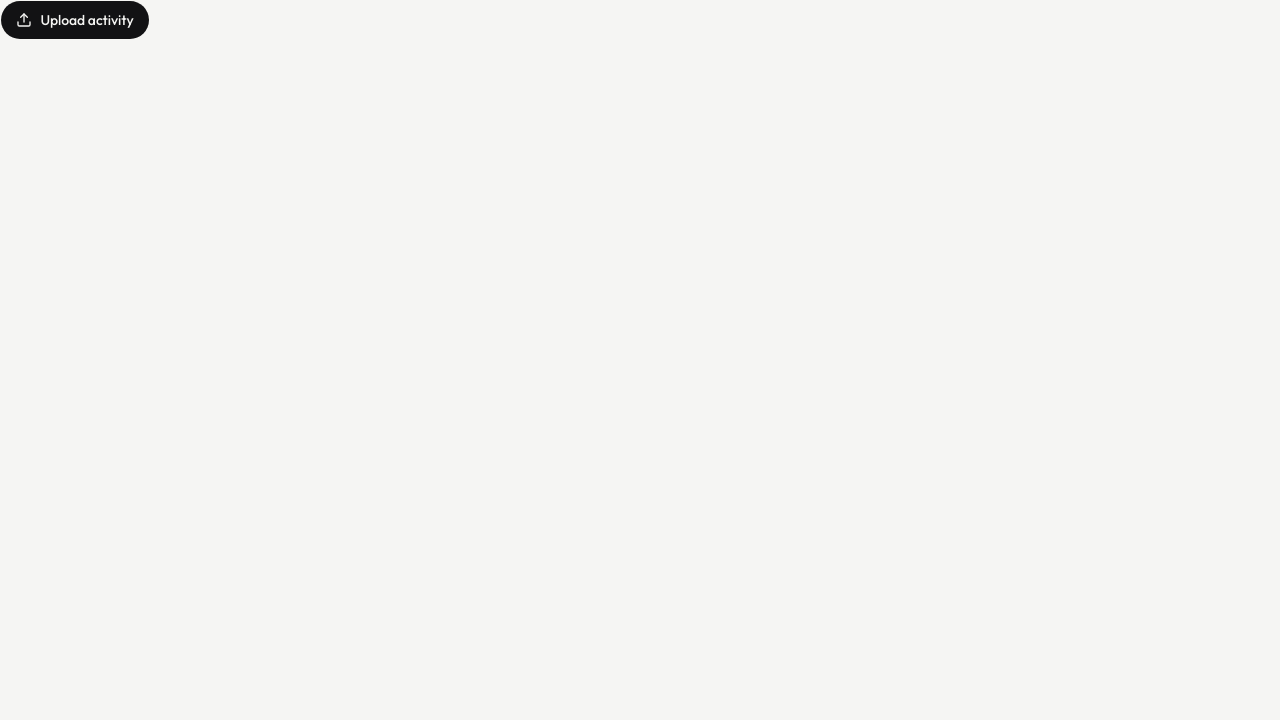
UploadActivityDrawer › opens from the trigger and shows the exact banner copy
Click the button with test id "upload-activity-button" at (75, 20), box 0,0 -> 150,40
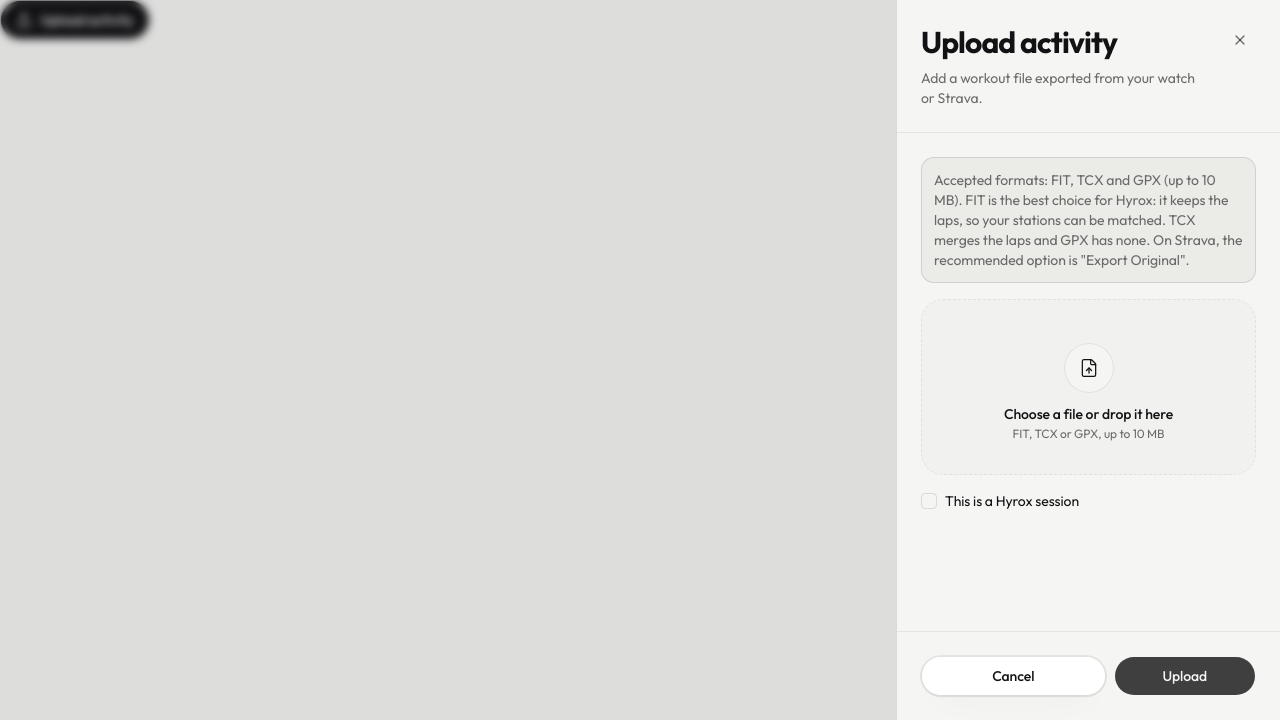
Expected: the text with test id "upload-format-banner" is shown, 921,157 -> 1256,283
Expected: the text with test id "upload-format-banner" shows "Accepted formats: FIT, TCX and GPX (up to 10 MB). FIT is the best choice for Hyrox: it keeps the laps, so your stations can be matched. TCX merges the laps and", 934,171 -> 1242,269
